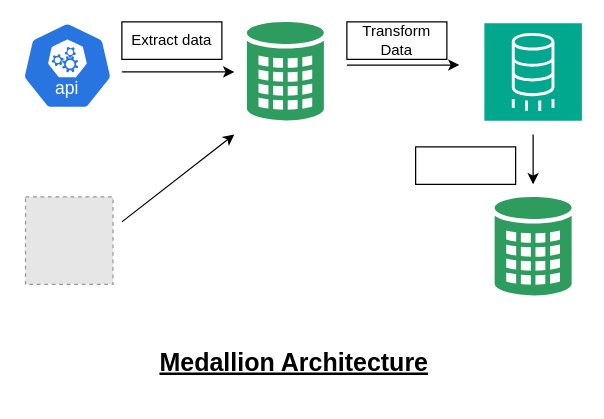
Some shapes in this 604 by 419 pixel diagram are drawn without their labels. Grey dashed boxes stand in for pictures. Here are the shapes that lost their labels. From the top down, the box of each, then its label:
(483, 22, 582, 121): Text
(414, 146, 516, 184): Load Data
